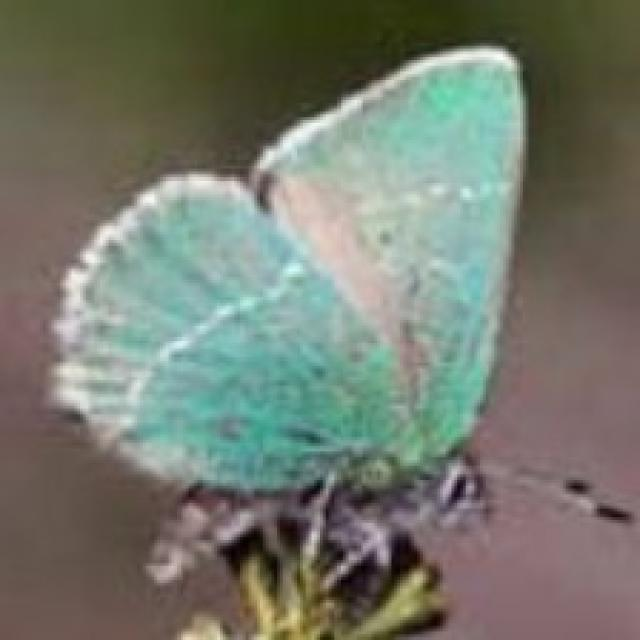butterfly: (43, 40, 637, 637)
